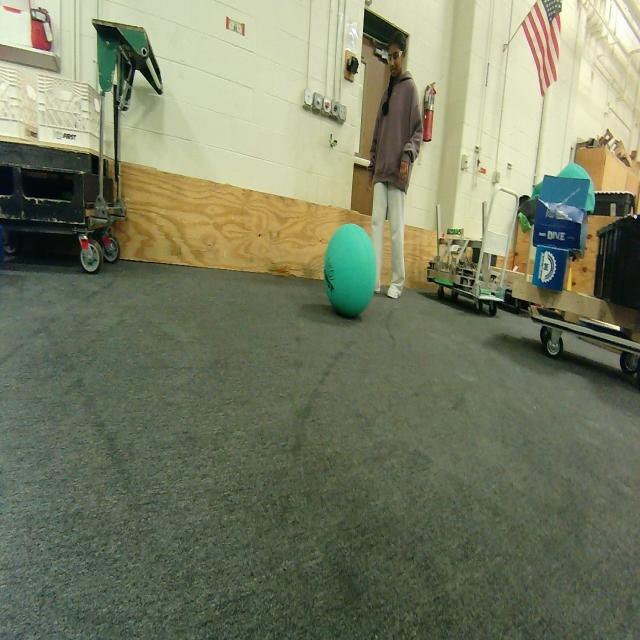algae: (323, 223, 377, 320)
